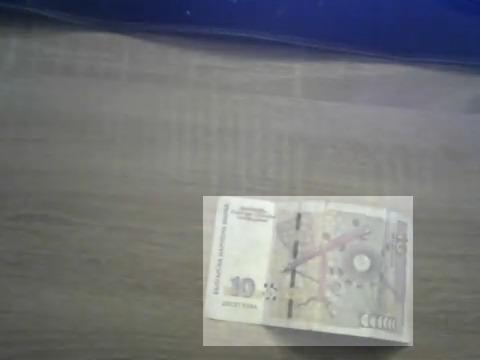10leva: (203, 196, 413, 346)
